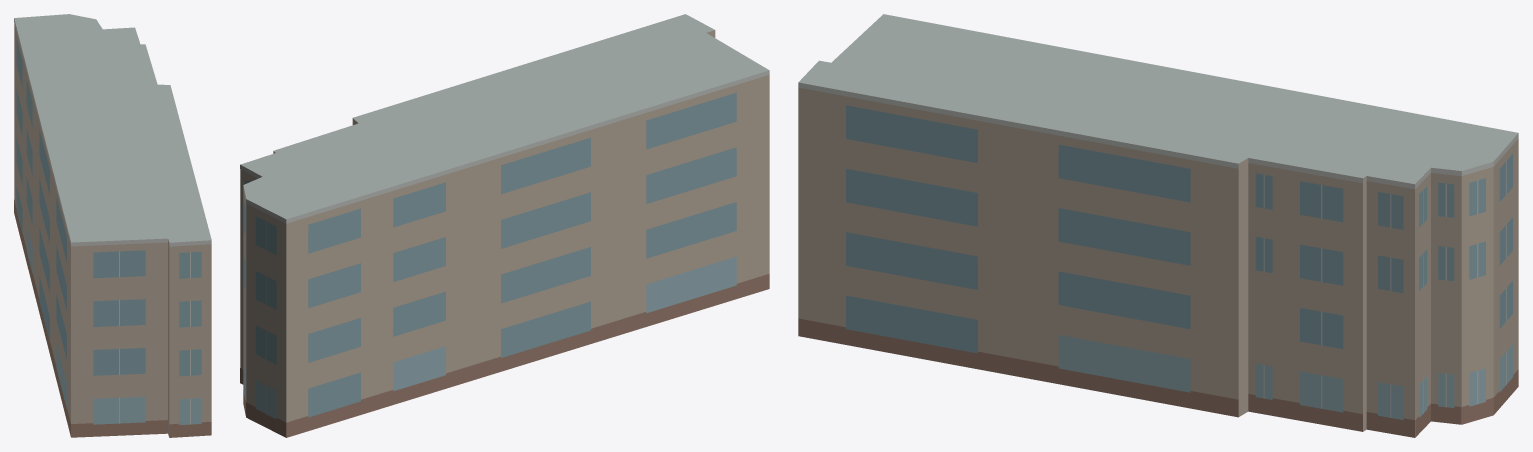
Rendered from survey-upis-32515420.glb.
3 renders of one model, left to right at view 1: azimuth 30°, elevation 25°; view 2: azimuth 150°, elevation 25°; view 3: azimuth 270°, elevation 25°, orthographic. The views are drawn at different scales.
Parts seen in each view (by area): view 1: survey-upis-32515420.tmp; view 2: survey-upis-32515420.tmp; view 3: survey-upis-32515420.tmp.
Part boxes in pixels (x1,y1,x2,y2): survey-upis-32515420.tmp: (14, 14, 211, 437); survey-upis-32515420.tmp: (240, 14, 769, 437); survey-upis-32515420.tmp: (798, 14, 1518, 437).
Size of the model in its own units: 17.57 by 12.2 by 31.41.
